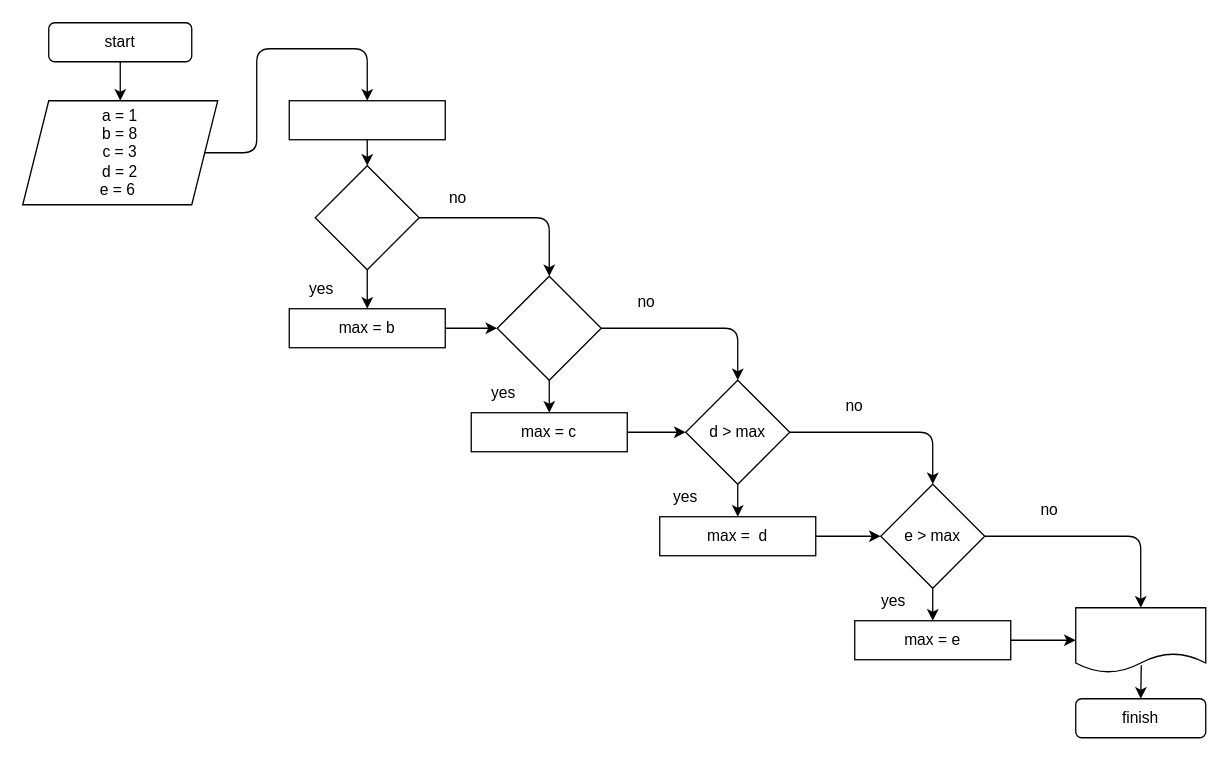
Some shapes in this 1229 by 761 pixel diagram are drawn without their labels. The box of each missing label's shape, as (x1, y1, x2, y2) in pixels:
b > max: (314, 164, 419, 270)
c > max: (496, 275, 601, 380)
max = a: (288, 99, 445, 140)
print(max): (1074, 606, 1206, 673)
